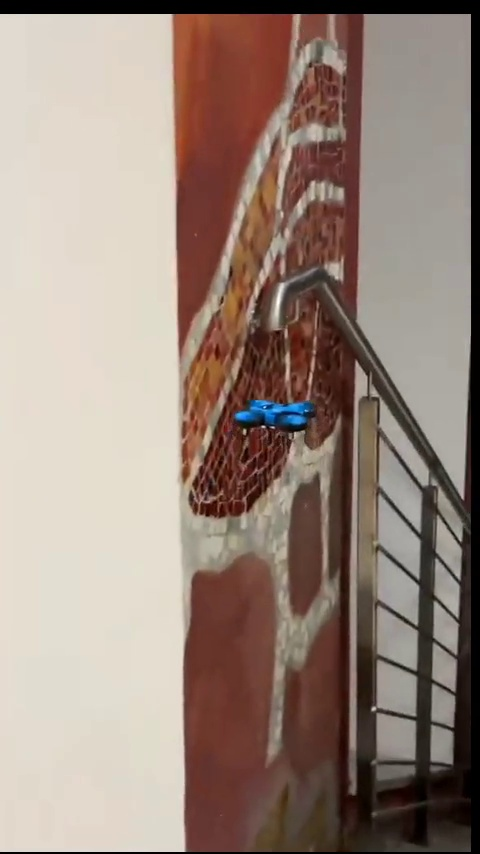drone: (233, 397, 316, 440)
